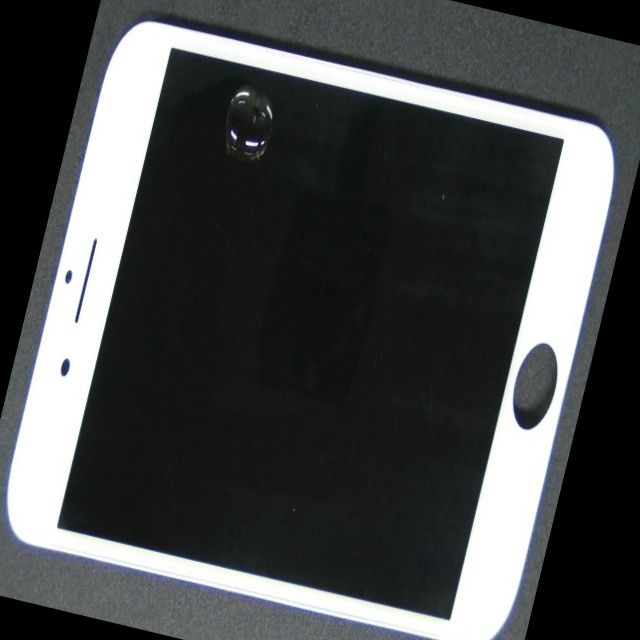oil: (152, 70, 377, 254)
